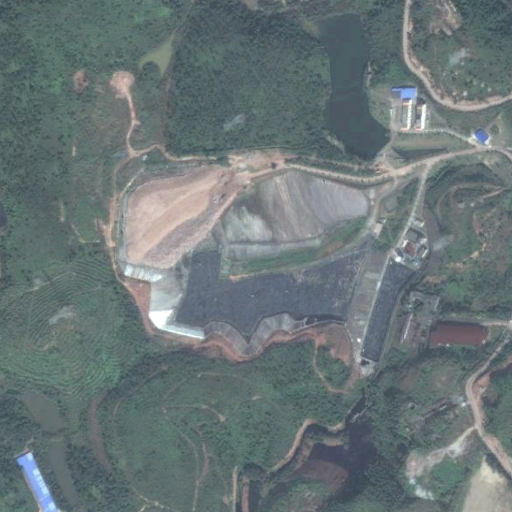lf: (121, 166, 376, 348)
